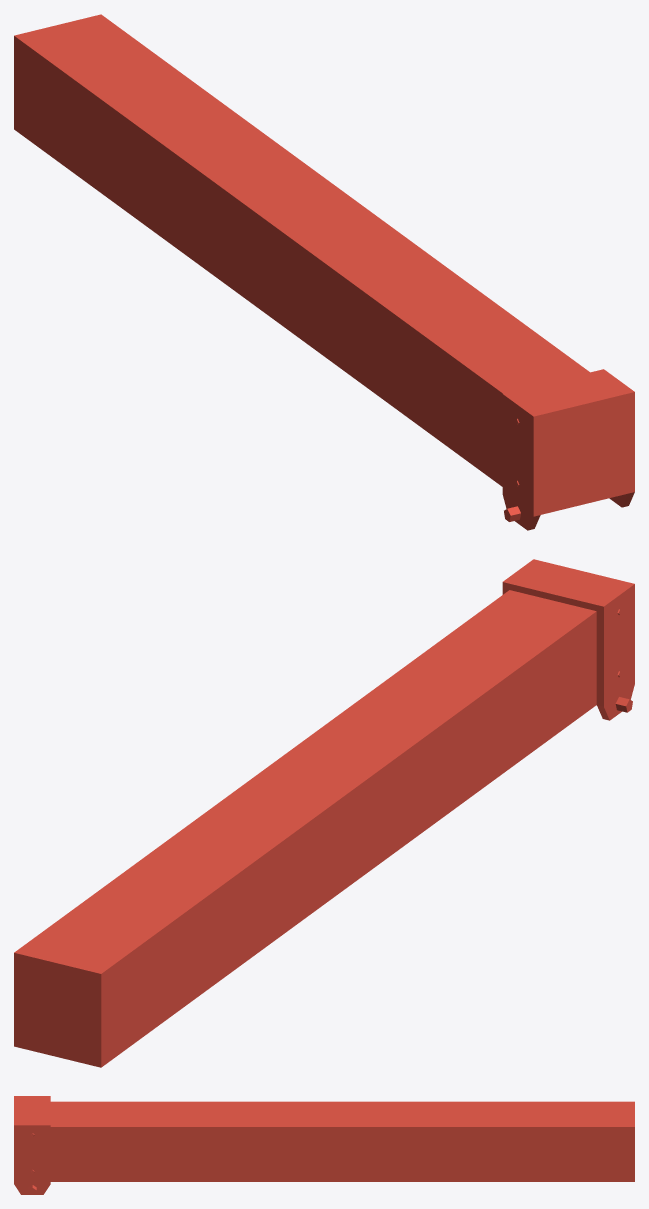
The model's file is SM_Camera_Crane_Arm_C.fbx.
3 renders of one model, top to bottom at view 1: azimuth 30°, elevation 25°; view 2: azimuth 150°, elevation 25°; view 3: azimuth 270°, elevation 25°, orthographic. The views are drawn at different scales.
Visible parts, largest first — view 1: SM_Camera_Crane_Arm_C; view 2: SM_Camera_Crane_Arm_C; view 3: SM_Camera_Crane_Arm_C.
Boxes of the visible parts, x1,y1,x2,y2 form: SM_Camera_Crane_Arm_C: [14, 14, 634, 530]; SM_Camera_Crane_Arm_C: [14, 559, 634, 1067]; SM_Camera_Crane_Arm_C: [14, 1096, 634, 1194].
Size of the model in its own units: 263 by 35.34 by 32.67.
